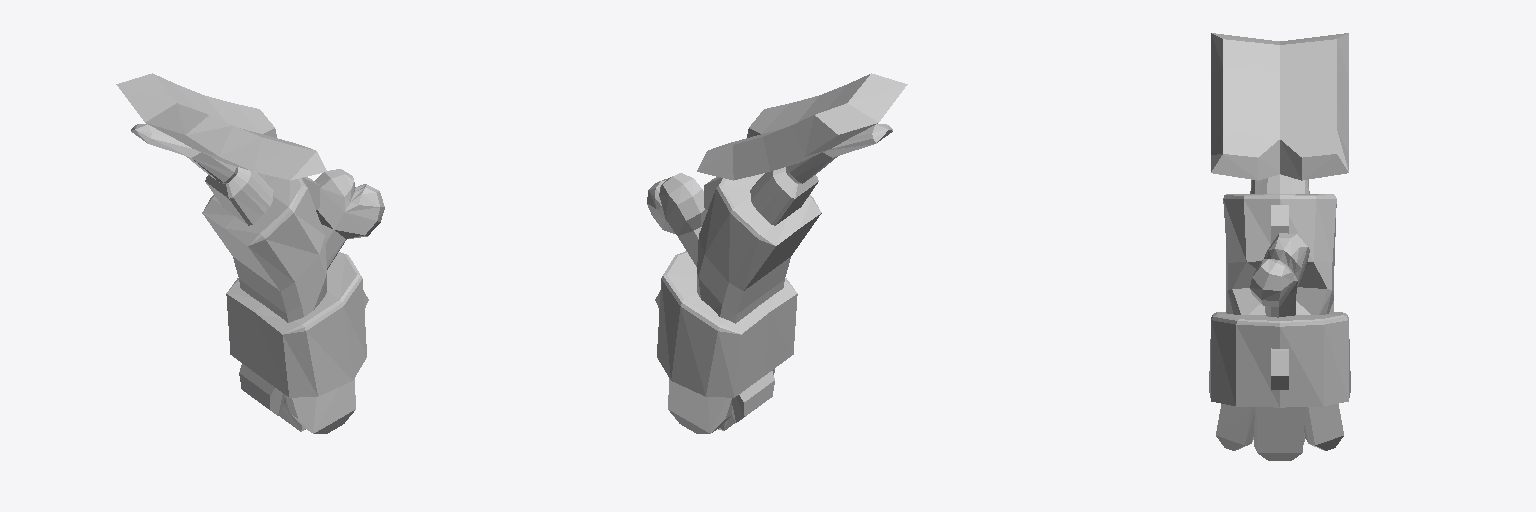
The model's file is character_skeleton_warrior_armLeft_broken.obj.
3 views of the same model, side by side, from view 1: azimuth 30°, elevation 25°; view 2: azimuth 150°, elevation 25°; view 3: azimuth 270°, elevation 25° (orthographic).
Visible parts, largest first — view 1: character_skeleton_warrior_armLeft_broken_Cube.7626; view 2: character_skeleton_warrior_armLeft_broken_Cube.7626; view 3: character_skeleton_warrior_armLeft_broken_Cube.7626.
Boxes of the visible parts, box(x1,y1,x2,y2) form: character_skeleton_warrior_armLeft_broken_Cube.7626: box(116, 73, 384, 433); character_skeleton_warrior_armLeft_broken_Cube.7626: box(647, 73, 907, 433); character_skeleton_warrior_armLeft_broken_Cube.7626: box(1209, 33, 1350, 460).
Size of the model in its own units: 0.4398 by 0.6262 by 0.224.